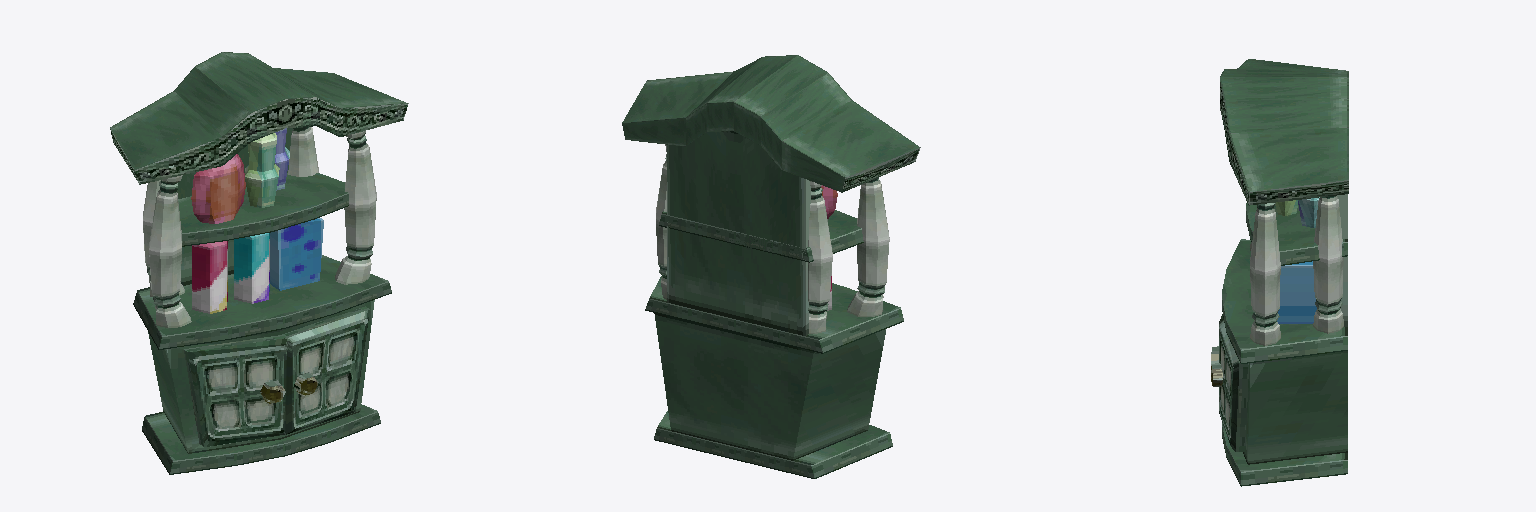
3 renders of one model, left to right at view 1: azimuth 30°, elevation 25°; view 2: azimuth 150°, elevation 25°; view 3: azimuth 270°, elevation 25°, orthographic.
Parts seen in each view (by area): view 1: part0_texture0.005, part8_texture1, part0_texture0.007, part0_texture0.006, part7_texture0, part6_texture7, part1_texture2.001, part4_texture5, part5_texture6, part3_texture4, part2_texture3; view 2: part0_texture0.005, part7_texture0, part8_texture1; view 3: part0_texture0.005, part7_texture0, part8_texture1, part0_texture0.006, part6_texture7.
Part boxes in pixels (x1,y1,x2,y2): part0_texture0.005: (110, 52, 408, 474); part8_texture1: (143, 127, 376, 327); part0_texture0.007: (184, 335, 287, 446); part0_texture0.006: (282, 306, 369, 434); part7_texture0: (148, 300, 374, 453); part6_texture7: (270, 218, 323, 290); part1_texture2.001: (191, 154, 245, 223); part4_texture5: (192, 241, 227, 313); part5_texture6: (234, 233, 269, 303); part3_texture4: (245, 133, 279, 207); part2_texture3: (275, 128, 289, 190); part0_texture0.005: (622, 55, 920, 478); part7_texture0: (654, 313, 885, 460); part8_texture1: (656, 144, 889, 333); part0_texture0.005: (1220, 59, 1348, 486); part7_texture0: (1243, 351, 1347, 464); part8_texture1: (1250, 196, 1343, 345); part0_texture0.006: (1211, 321, 1248, 451); part6_texture7: (1277, 261, 1316, 323).
Bounding box in the file's own units: 1.27 × 1.59 × 0.5527.
Materials: 8 (8 with a texture image).